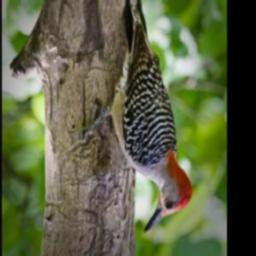Woodpecker: (66, 0, 201, 238)
